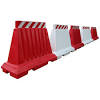barrier: (4, 20, 56, 78), (50, 23, 76, 60), (69, 25, 84, 53), (81, 25, 93, 48), (90, 25, 99, 43)
